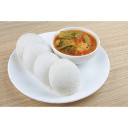idly: (49, 60, 82, 96), (18, 33, 47, 67), (34, 51, 60, 86), (26, 42, 48, 75)
